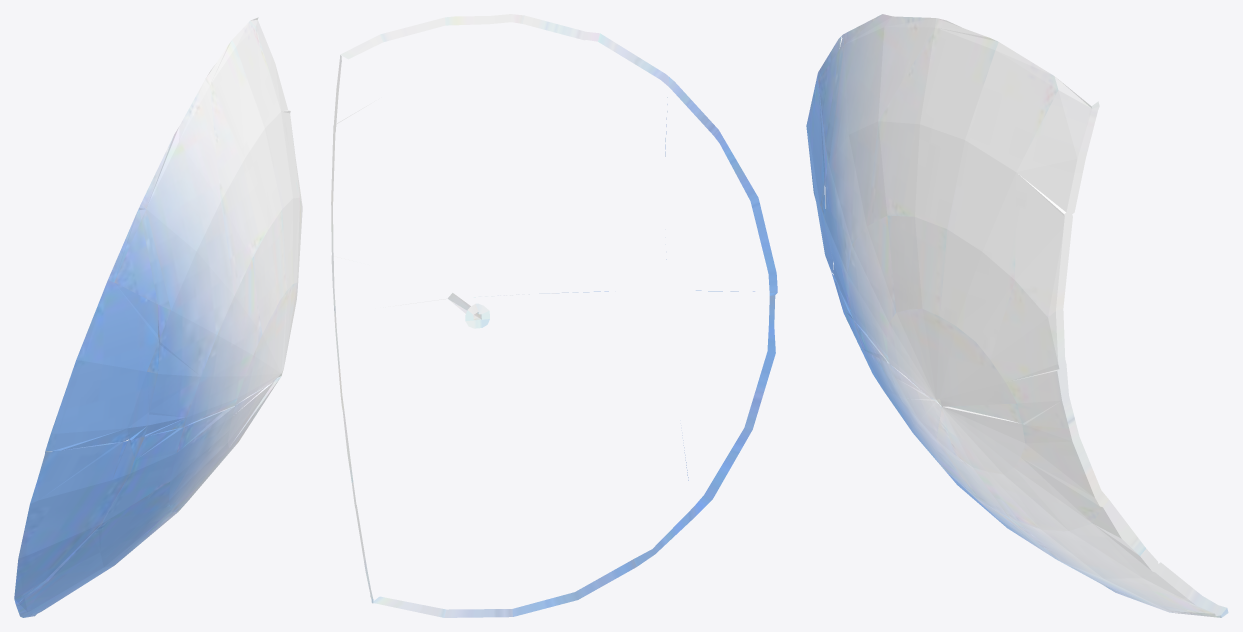
File: congresso_tile_67.glb
The picture shows the model from 3 angles, left to right: view 1: azimuth 30°, elevation 25°; view 2: azimuth 150°, elevation 25°; view 3: azimuth 270°, elevation 25°; orthographic projection. The views are drawn at different scales.
Bounding box in the file's own units: 22.27 × 32.45 × 20.1.
1 material, 1 textured.
